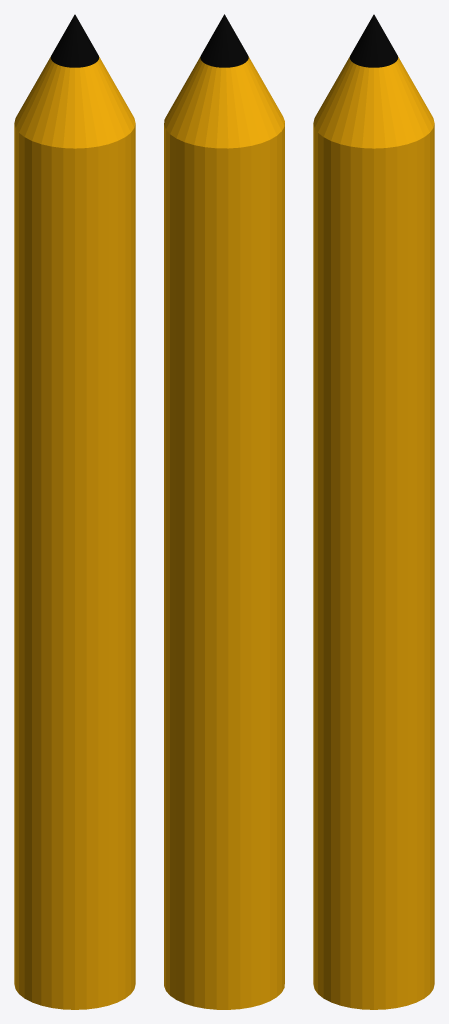
Rendered from pencil_gazebo.dae.
The picture shows the model from 3 angles, left to right: view 1: azimuth 90°, elevation 25°; view 2: azimuth 150°, elevation 25°; view 3: azimuth 270°, elevation 25°; orthographic projection.
Visible parts, largest first — view 1: Schaft, Spitze; view 2: Schaft, Spitze; view 3: Schaft, Spitze.
Part boxes in pixels (left/top/right/bottom): Schaft: left=14, top=56, right=135, bottom=1009; Spitze: left=50, top=14, right=99, bottom=67; Schaft: left=164, top=56, right=284, bottom=1009; Spitze: left=200, top=14, right=248, bottom=67; Schaft: left=313, top=56, right=434, bottom=1009; Spitze: left=349, top=14, right=398, bottom=67.
Bounding box in the file's own units: 0.012 × 0.012 × 0.106.
Materials: 2 (2 with a texture image).
